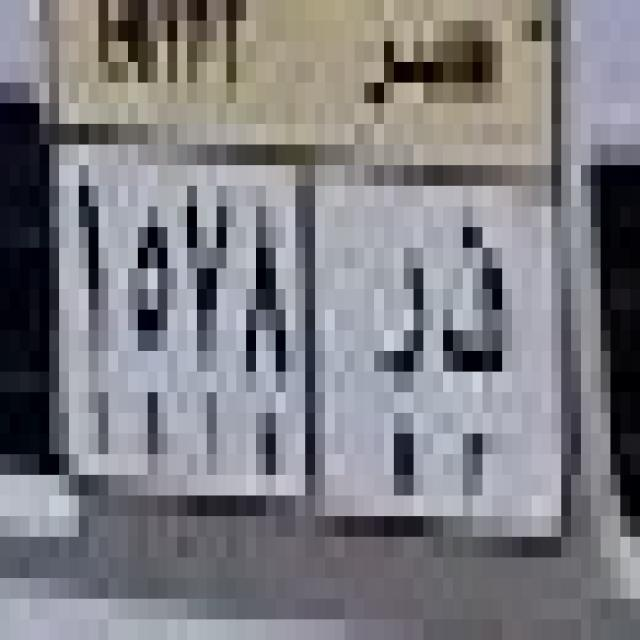1: (68, 153, 110, 347)
5: (122, 198, 177, 366)
7: (183, 166, 233, 372)
8: (240, 201, 289, 406)
F: (436, 215, 532, 383)
R: (366, 240, 430, 400)
